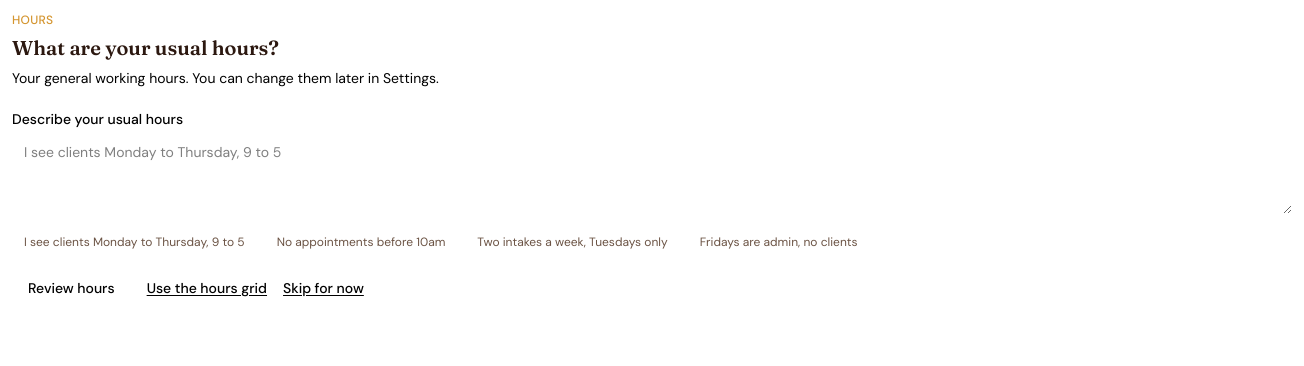
Test: CalendarHoursStep while Pablo reads › shows only the answer to the latest sentence when a correction overtakes the first
Type "Monday to Thursday, 9 to 5" into the text box labelled "Describe your usual hours" at (652, 174), box [12, 134, 1292, 214]
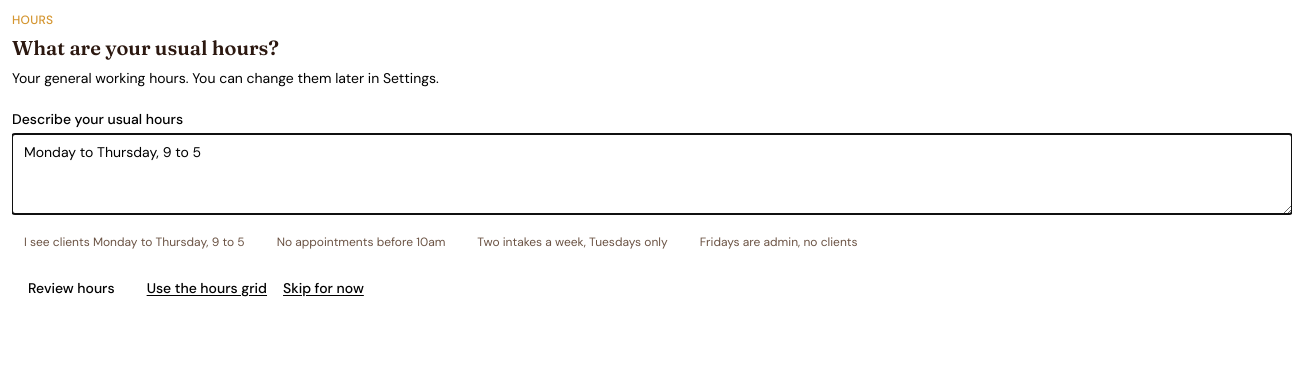
Click the button "Review hours" at (71, 288), box [12, 270, 131, 306]
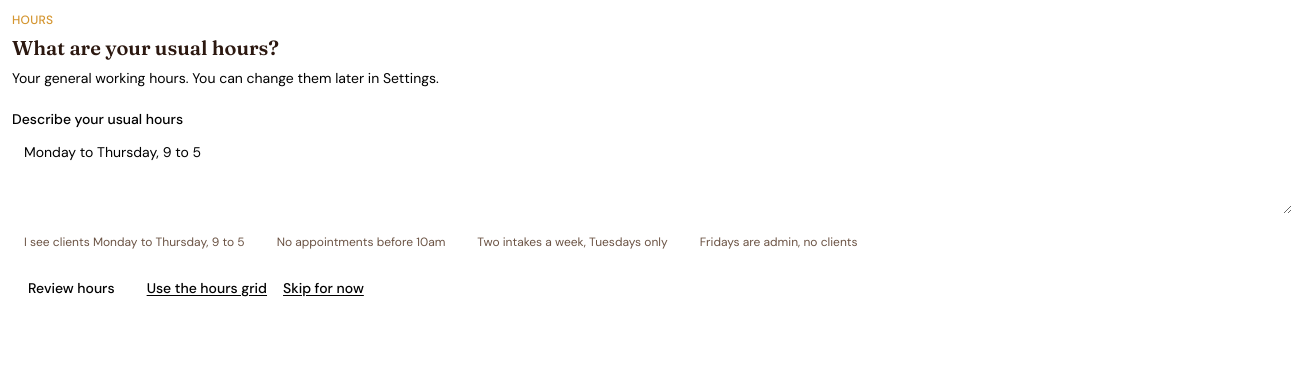
Type ", and Fridays" into the text box labelled "Describe your usual hours" at (652, 174), box [12, 134, 1292, 214]
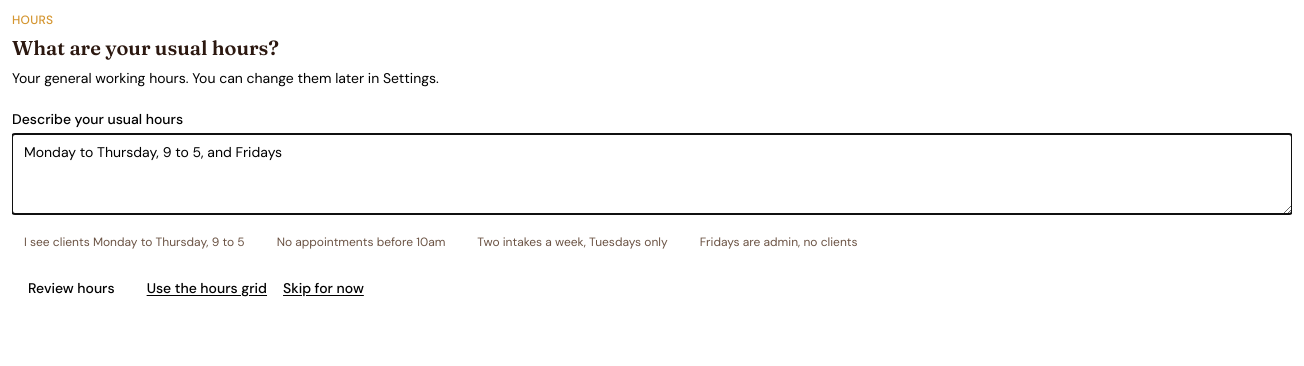
Click the button "Review hours" at (71, 288), box [12, 270, 131, 306]
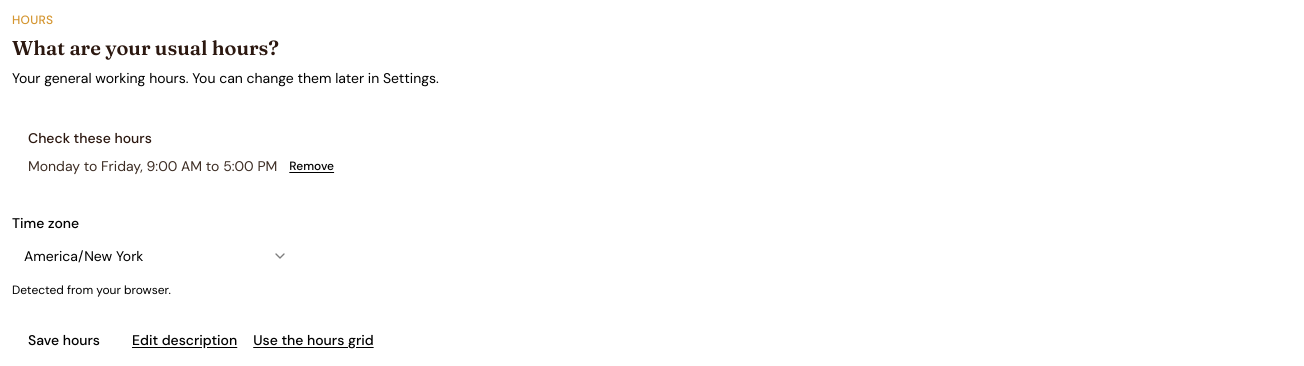
Expected: the text "Monday to Friday, 9:00 AM to 5:00 PM" is shown, [28, 156, 277, 176]
